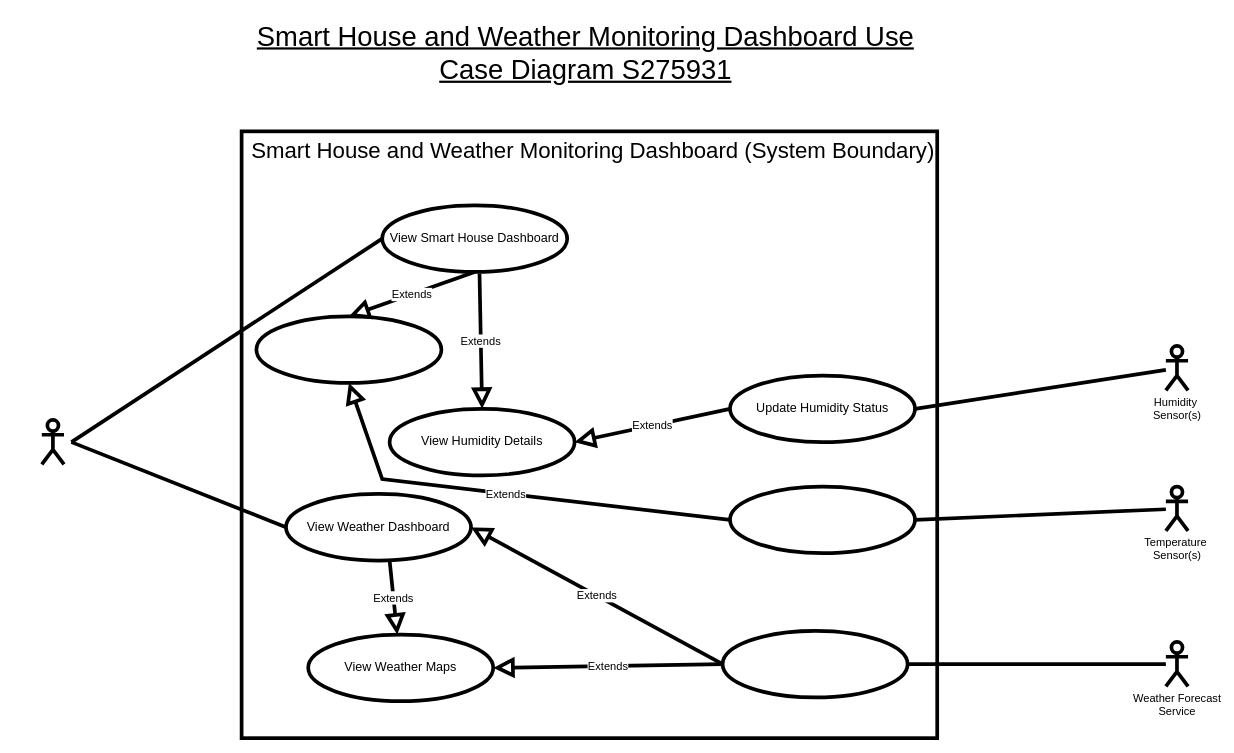
This 1234x753 diagram has some shape labels left out. The box of each missing label's shape, as (x1, y1, x2, y2) in pixels:
Smart House Dashboard User: (40, 418, 65, 466)
Update Temperature Status: (728, 484, 916, 555)
Update Weather Forecast and Dashboard: (720, 629, 909, 699)
View Temperature Details: (254, 314, 443, 384)
